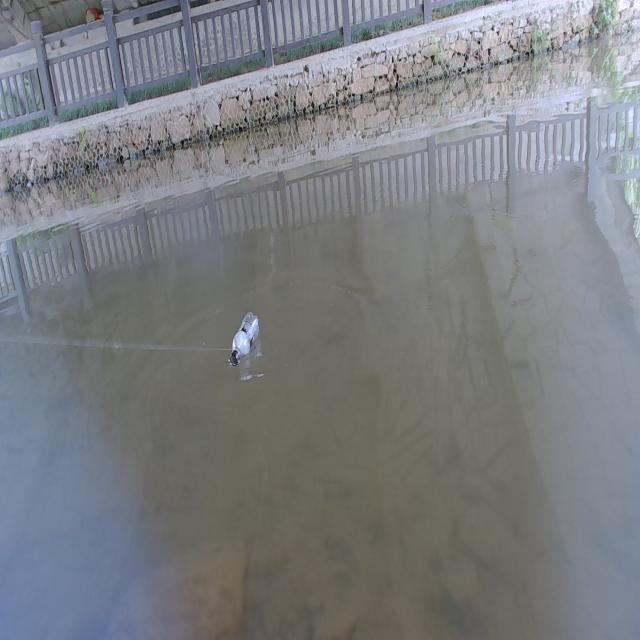bottle: (225, 309, 272, 369)
